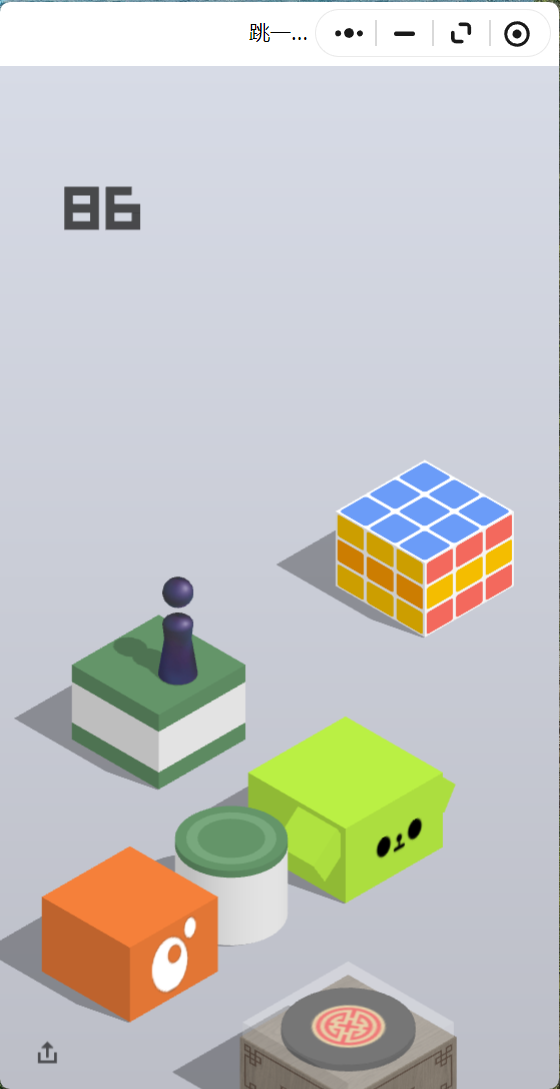piece: (162, 577, 192, 680)
target: (337, 459, 513, 562)
